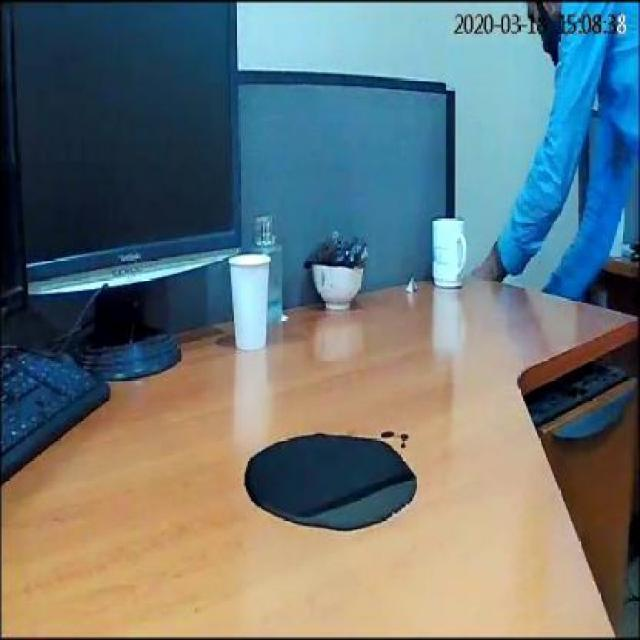spill: (240, 432, 414, 528)
